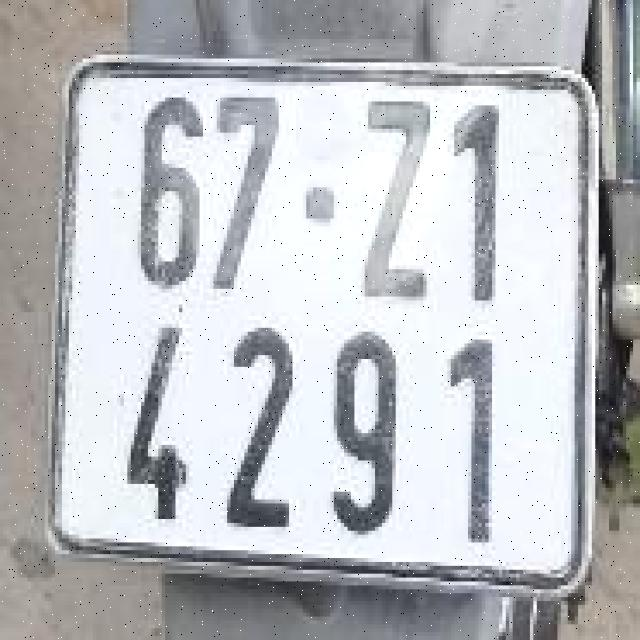1: (447, 94, 520, 304), (446, 330, 514, 544)
2: (218, 316, 304, 539)
4: (120, 314, 203, 529)
6: (134, 94, 203, 288)
7: (215, 84, 284, 310)
9: (322, 322, 404, 537)
Z: (358, 92, 437, 306)
